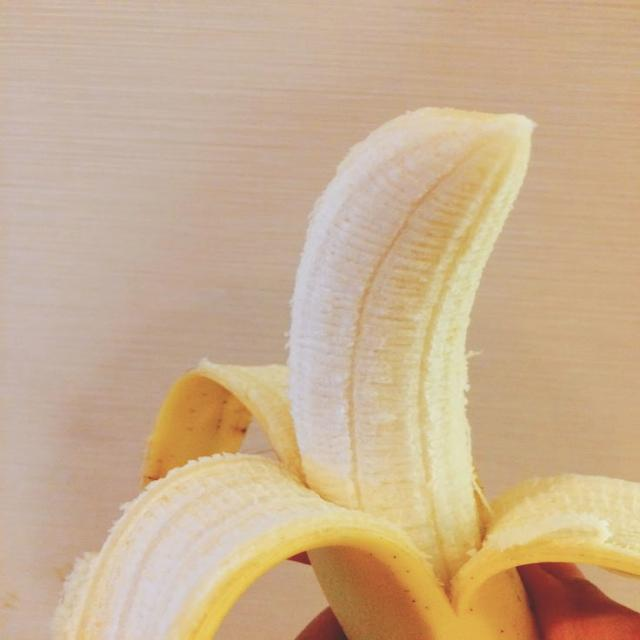banana: (56, 109, 639, 639)
